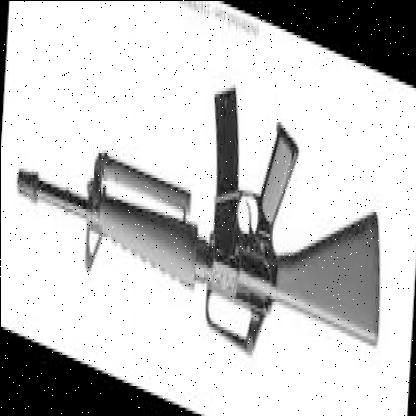rifle: (15, 10, 387, 404)
